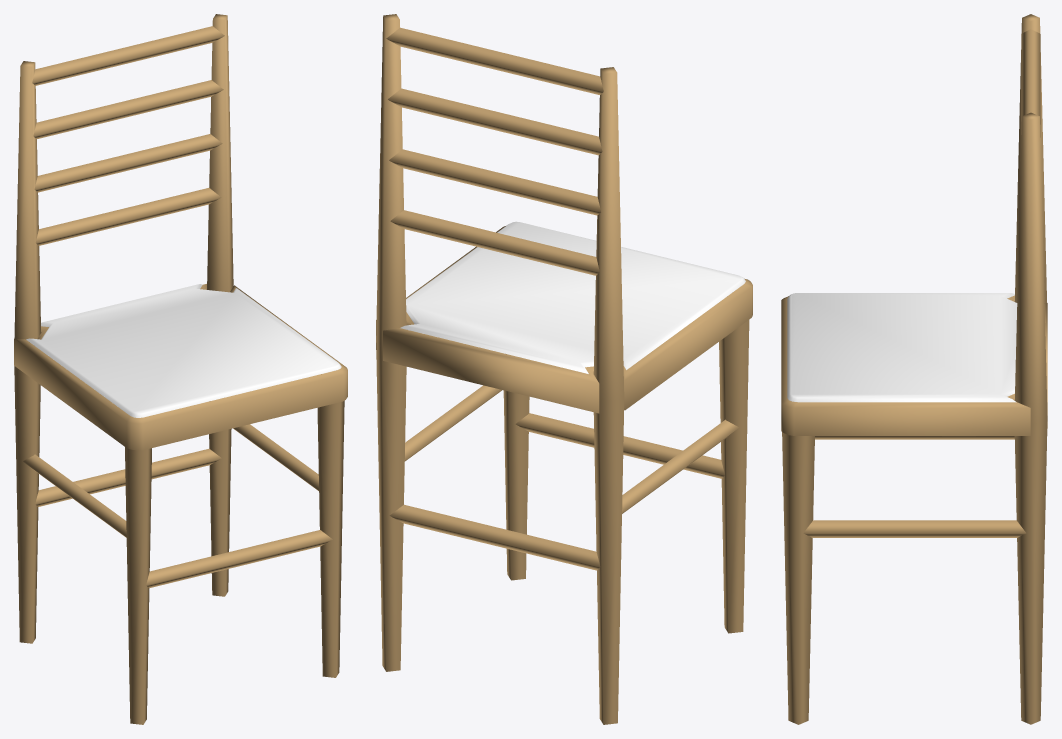
Rendered from chair.glb.
3 views of the same model, side by side, from view 1: azimuth 30°, elevation 25°; view 2: azimuth 150°, elevation 25°; view 3: azimuth 270°, elevation 25° (orthographic). The views are drawn at different scales.
Parts seen in each view (by area): view 1: Table.008; view 2: Table.008; view 3: Table.008.
Part boxes in pixels (box(x1,y1,x2,y2)): Table.008: box(14, 14, 347, 724); Table.008: box(376, 14, 752, 724); Table.008: box(781, 14, 1047, 724).
Size of the model in its own units: 0.9982 by 2.5 by 0.9982.
